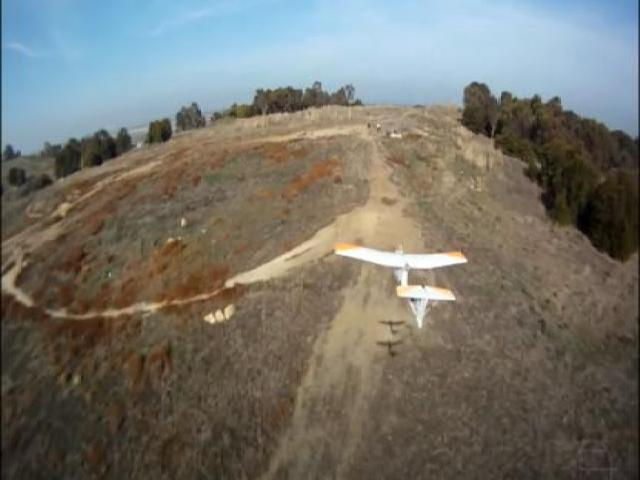uav: (330, 234, 470, 328)
